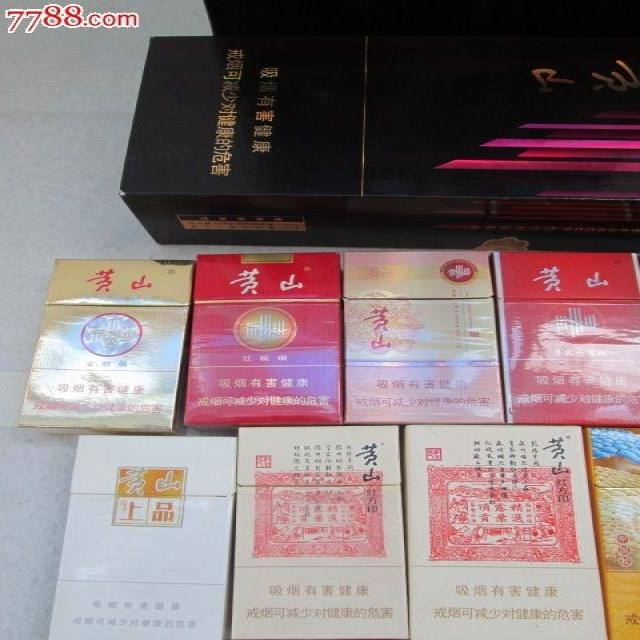box: (119, 37, 640, 252), (408, 426, 608, 640), (48, 434, 237, 640), (231, 427, 408, 640), (16, 259, 193, 435), (183, 253, 343, 431), (344, 252, 504, 424), (493, 251, 640, 426), (204, 0, 640, 44), (584, 428, 640, 640)
